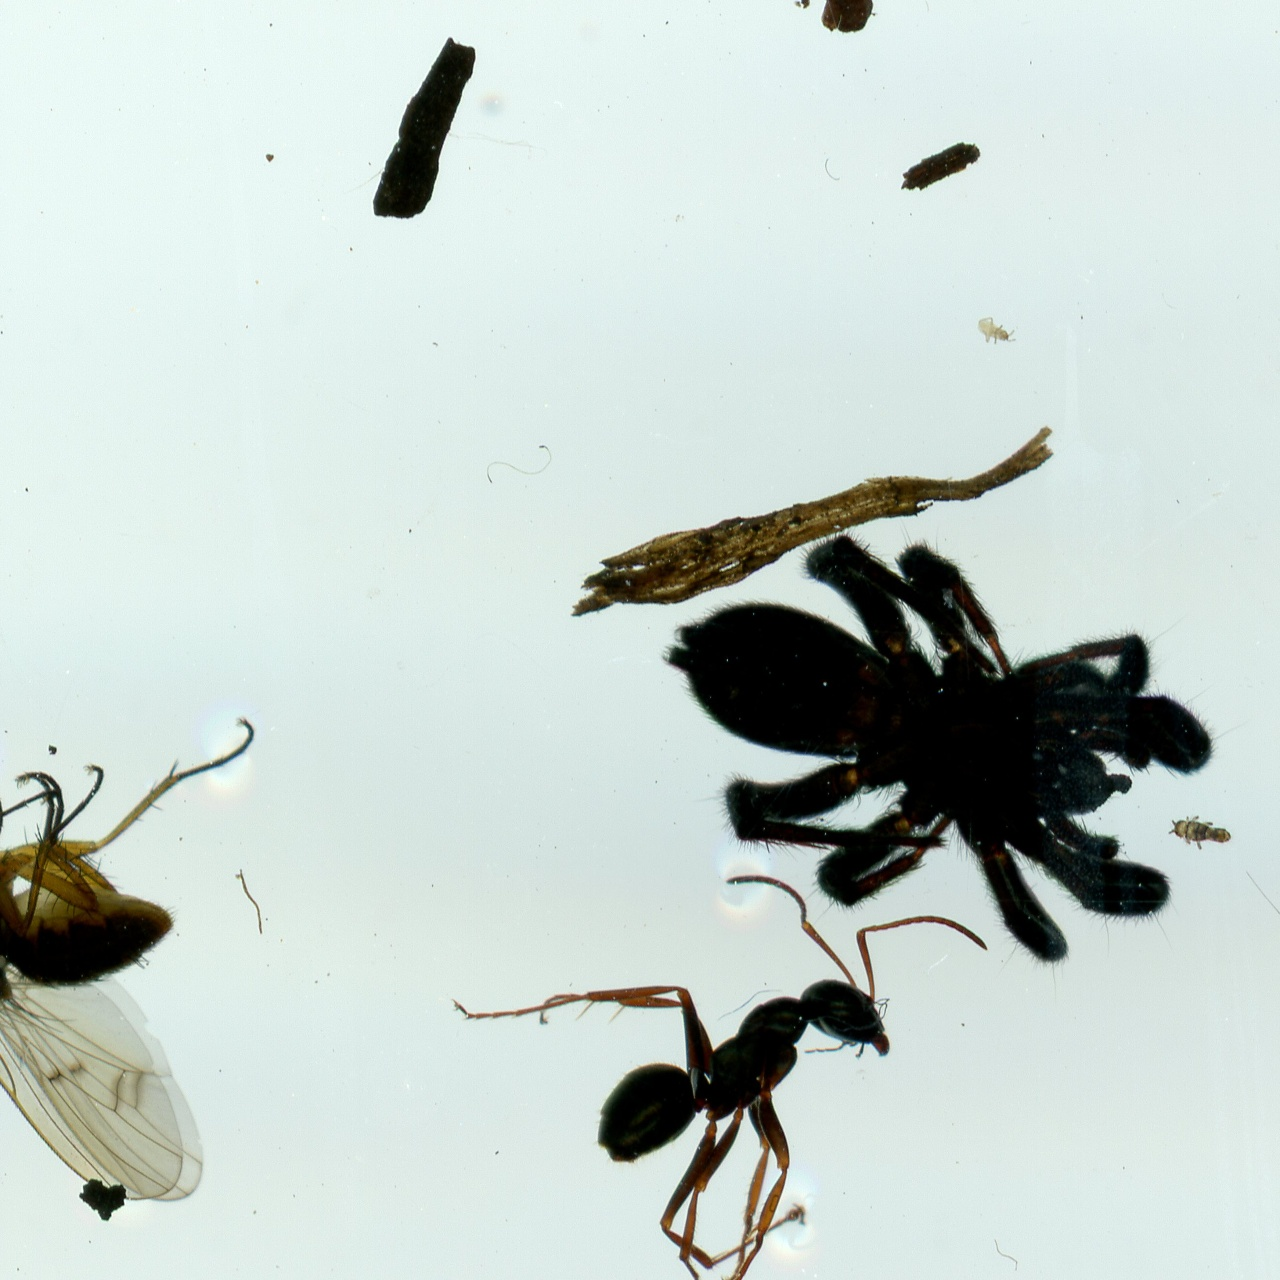arthropod: (658, 512, 1260, 1010), (445, 870, 992, 1280), (0, 709, 288, 1214), (1167, 816, 1235, 852), (976, 314, 1017, 346)
